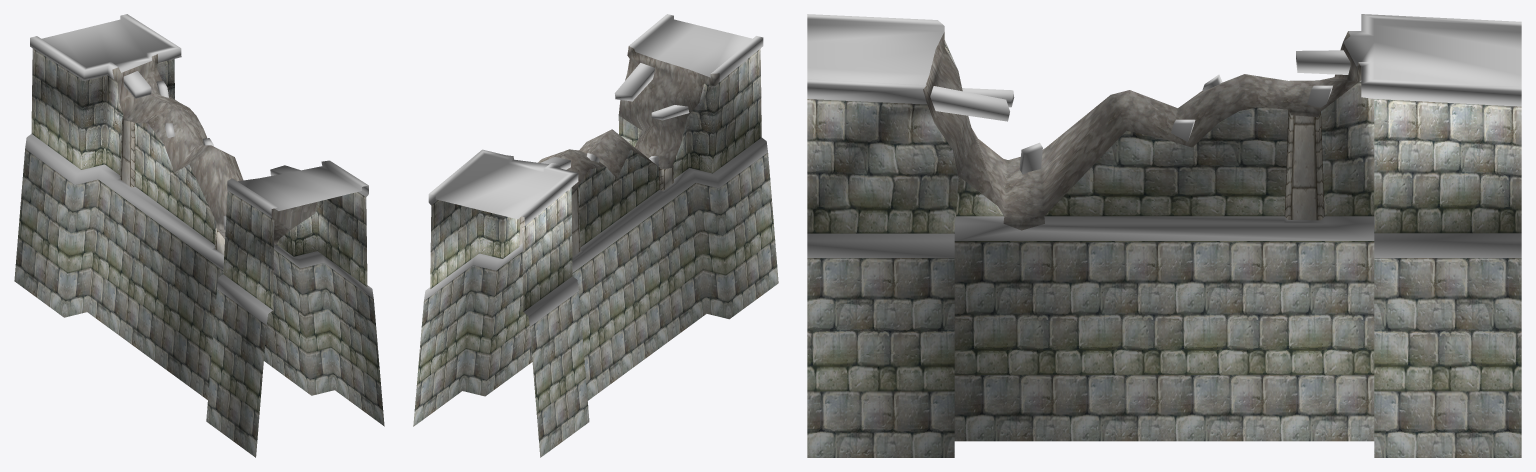
The model's file is wallpieceruin01.obj.
3 renders of one model, left to right at view 1: azimuth 30°, elevation 25°; view 2: azimuth 150°, elevation 25°; view 3: azimuth 270°, elevation 25°, orthographic. The views are drawn at different scales.
Visible parts, largest first — view 1: WallPieceRuin01; view 2: WallPieceRuin01; view 3: WallPieceRuin01.
Boxes of the visible parts, x1=… form: WallPieceRuin01: x1=14, y1=14, x2=384, y2=457; WallPieceRuin01: x1=413, y1=14, x2=778, y2=457; WallPieceRuin01: x1=807, y1=14, x2=1521, y2=457.
Bounding box in the file's own units: 14.9 × 27.1 × 48.4.
